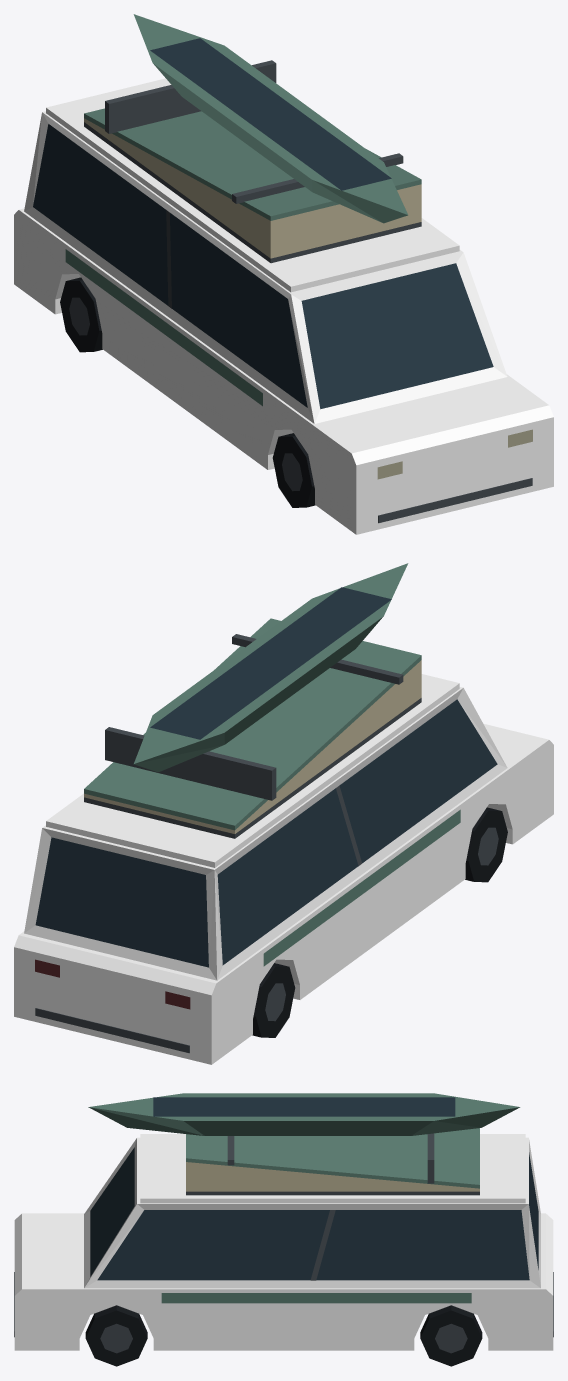
File: camper-van.glb
The picture shows the model from 3 angles, top to bottom: view 1: azimuth 30°, elevation 25°; view 2: azimuth 150°, elevation 25°; view 3: azimuth 270°, elevation 25°; orthographic projection. The views are drawn at different scales.
Parts seen in each view (by area): view 1: vehicle_body; view 2: vehicle_body; view 3: vehicle_body.
Boxes of the visible parts, box(x1,y1,x2,y2) form: vehicle_body: box(14, 14, 553, 534); vehicle_body: box(14, 563, 553, 1064); vehicle_body: box(14, 1093, 553, 1366).
Size of the model in its own units: 2.2 by 3 by 6.62.
